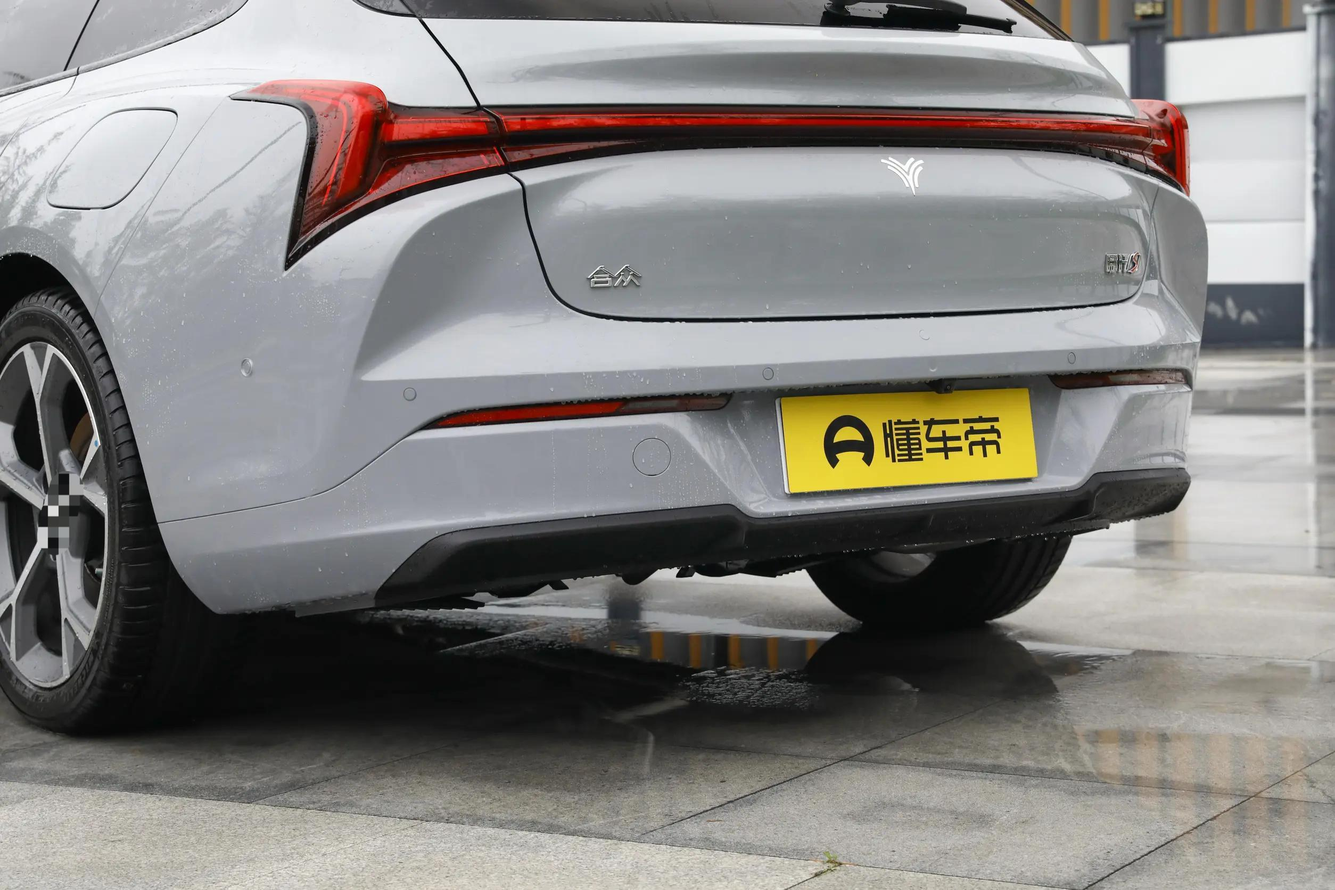NETA: (880, 156, 924, 197)
